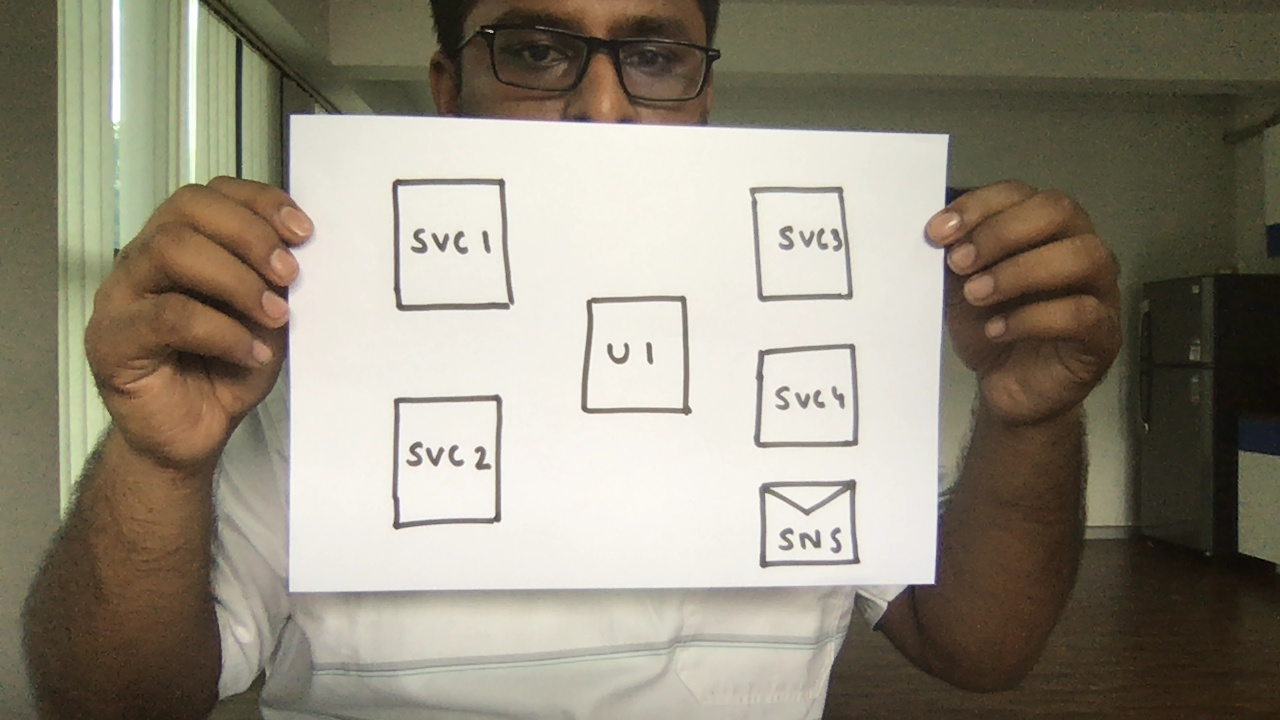ec2: (387, 174, 522, 316), (383, 391, 518, 533), (743, 177, 860, 308), (747, 339, 866, 454)
sns: (754, 476, 865, 572)
ui: (576, 291, 695, 421)
